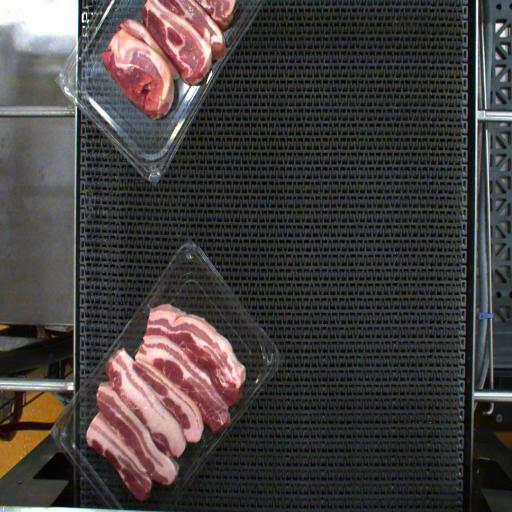packaging-error: (212, 419, 243, 447)
